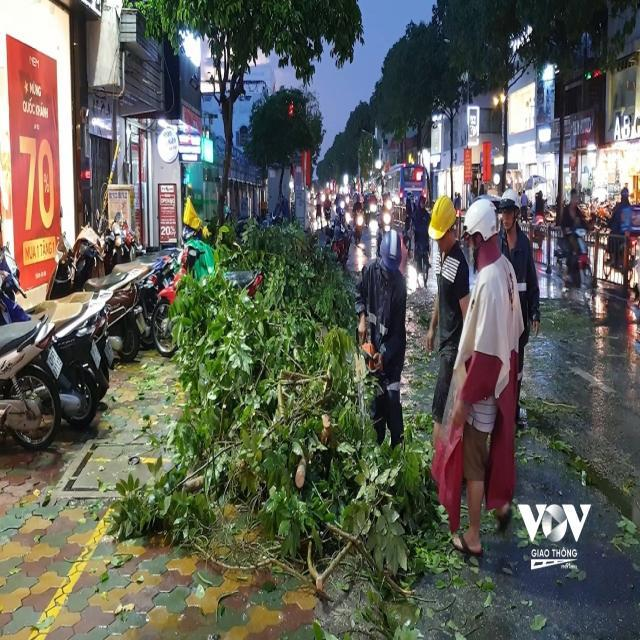fallen_object: (206, 207, 414, 598)
